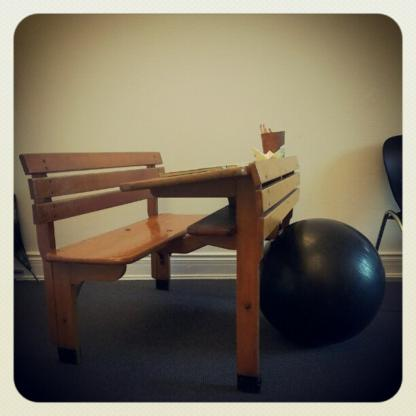Ball: (261, 218, 387, 346)
